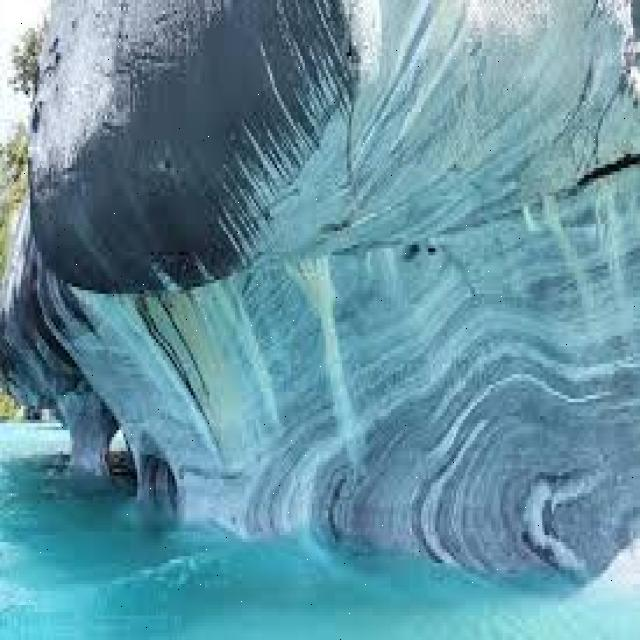Metamorphic: (9, 3, 636, 594)
